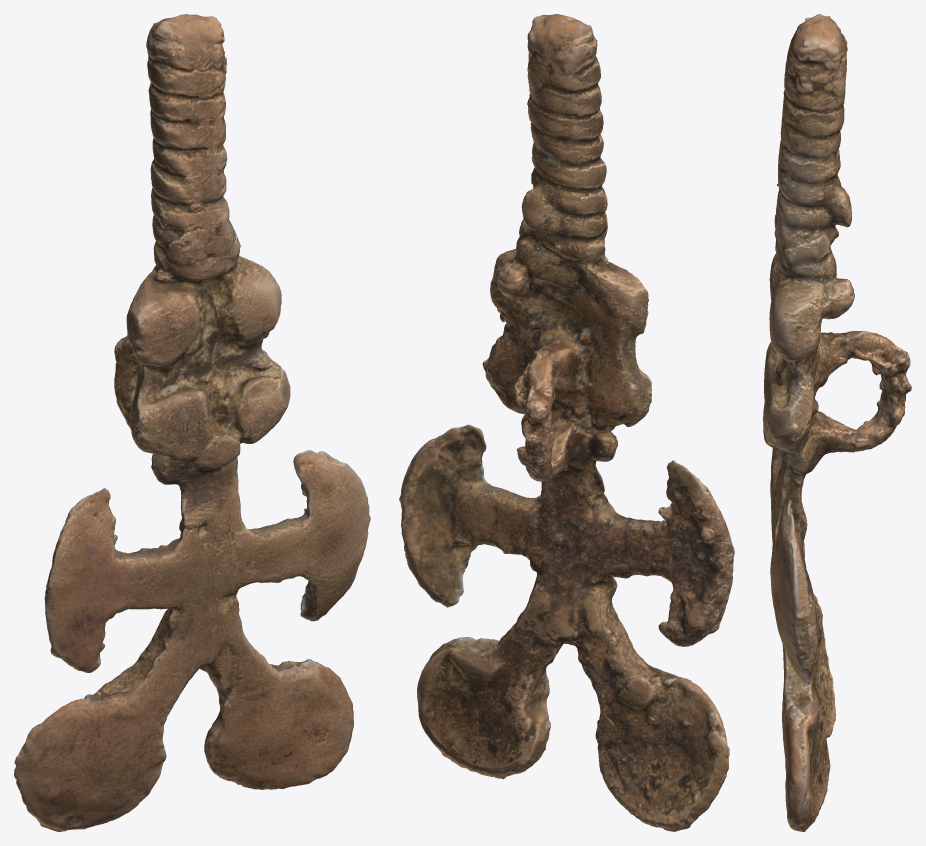
File: necklace_piece_quimbaya_culture.glb
3 views of the same model, side by side, from view 1: azimuth 30°, elevation 25°; view 2: azimuth 150°, elevation 25°; view 3: azimuth 270°, elevation 25° (orthographic). The views are drawn at different scales.
Visible parts, largest first — view 1: 174_2._LP; view 2: 174_2._LP; view 3: 174_2._LP.
Boxes of the visible parts, x1=… form: 174_2._LP: x1=14, y1=14, x2=370, y2=831; 174_2._LP: x1=399, y1=14, x2=734, y2=831; 174_2._LP: x1=763, y1=14, x2=911, y2=831.
Size of the model in its own units: 0.00939 by 0.0206 by 0.00367.
1 material, 1 textured.
